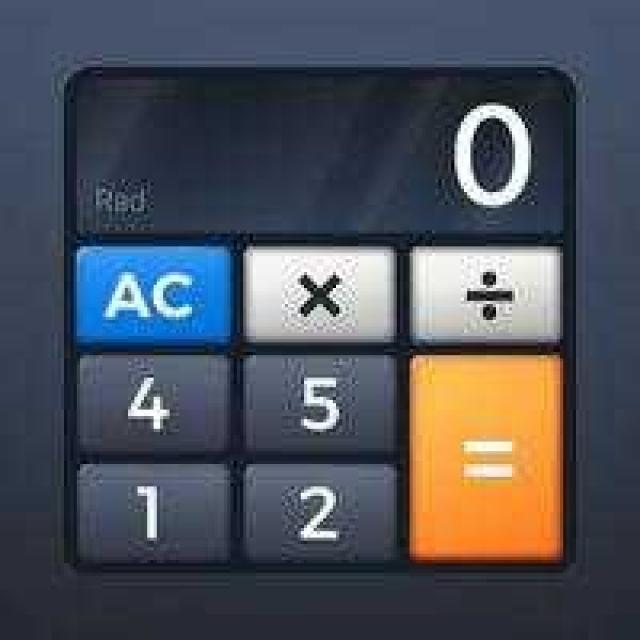Calculator: (51, 58, 595, 634)
